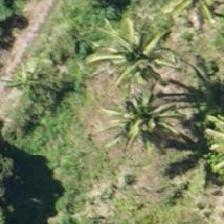coconut_tree: (91, 14, 181, 104), (88, 69, 178, 159)
